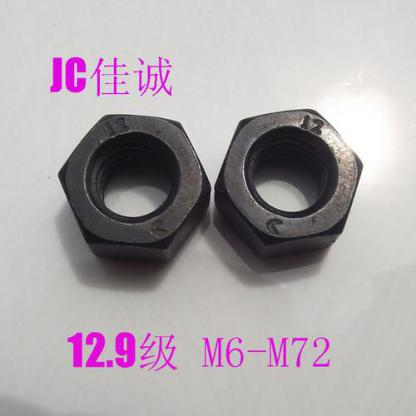FOD: (54, 112, 211, 266), (212, 106, 365, 263)
